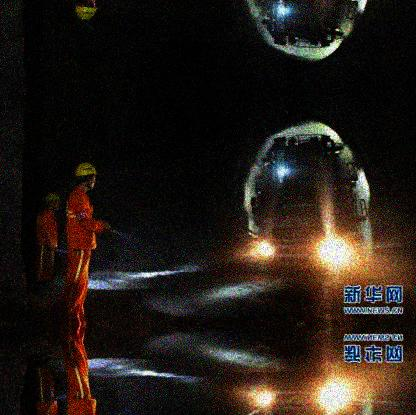helmet: (74, 162, 100, 192), (45, 193, 62, 213)
